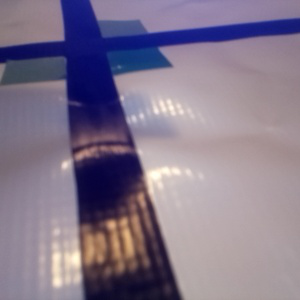bottom_left: (1, 47, 106, 85)
bottom_right: (69, 38, 172, 74)
top_right: (64, 20, 148, 48)
